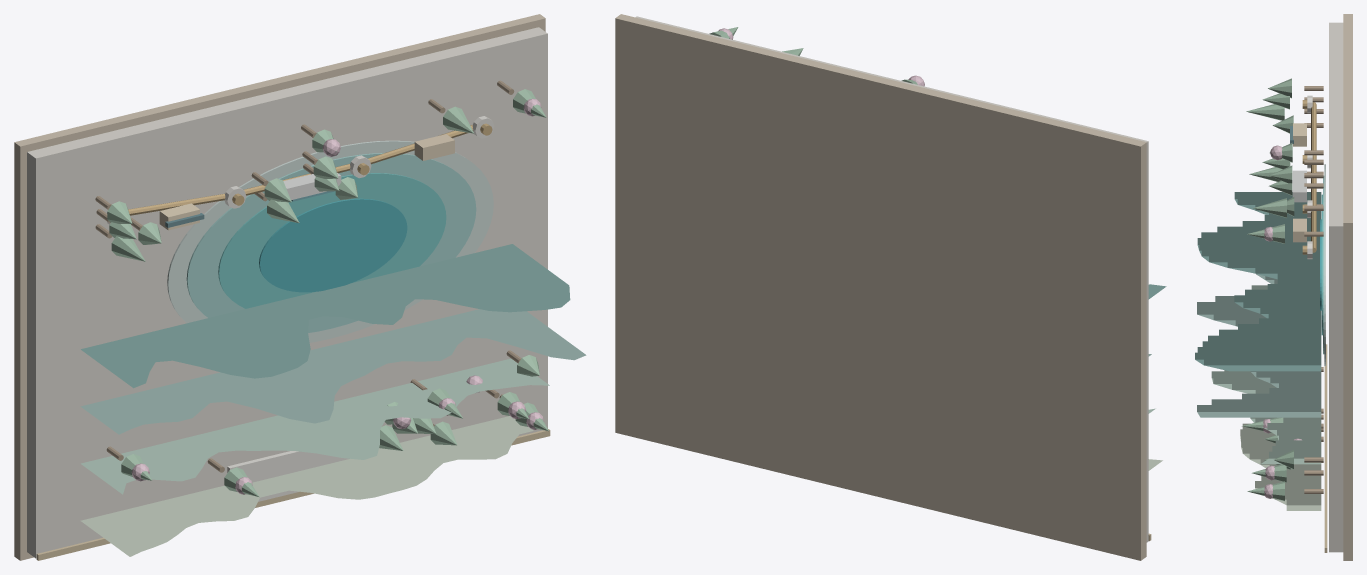
The model's file is spring.glb.
The picture shows the model from 3 angles, left to right: view 1: azimuth 30°, elevation 25°; view 2: azimuth 150°, elevation 25°; view 3: azimuth 270°, elevation 25°; orthographic projection. The views are drawn at different scales.
Visible parts, largest first — view 1: part_000, part_009, part_008, part_006, part_007, part_001, part_005, part_004, part_003, part_002, part_083, part_010 (+2 smaller); view 2: part_001, part_000; view 3: part_009, part_000, part_001, part_008, part_007, part_006, part_010, part_080, part_002, part_057, part_017, part_003 (+14 smaller).
Part boxes in pixels (x1,y1,x2,y2): part_000: [27, 27, 547, 558]; part_009: [81, 244, 570, 388]; part_008: [80, 309, 586, 434]; part_006: [80, 416, 533, 556]; part_007: [81, 358, 549, 494]; part_001: [14, 14, 545, 560]; part_005: [259, 198, 407, 292]; part_004: [218, 173, 446, 308]; part_003: [186, 153, 476, 332]; part_002: [167, 140, 493, 342]; part_083: [227, 451, 349, 501]; part_010: [36, 429, 550, 560]; part_001: [615, 14, 1146, 560]; part_000: [635, 16, 1148, 542]; part_009: [1195, 192, 1321, 371]; part_000: [1329, 22, 1343, 552]; part_001: [1343, 14, 1352, 560]; part_008: [1197, 274, 1321, 417]; part_007: [1211, 285, 1321, 464]; part_006: [1240, 423, 1321, 510]; part_010: [1324, 344, 1327, 552]; part_080: [1292, 170, 1306, 202]; part_002: [1324, 164, 1325, 365]; part_057: [1246, 104, 1284, 120]; part_017: [1253, 198, 1286, 217]; part_003: [1323, 176, 1324, 354].
Size of the model in its own units: 2.31 by 1.74 by 0.7371.
